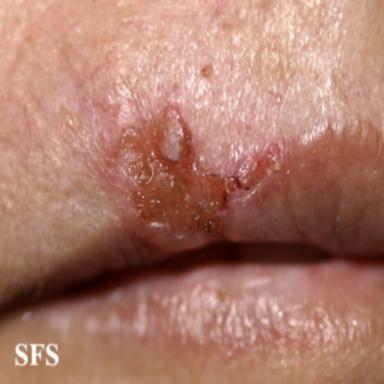basal-cell-carcinoma: (102, 99, 290, 255)
